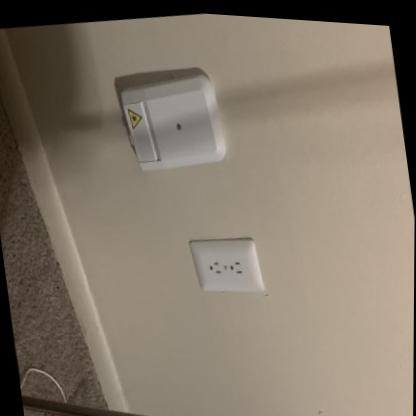OUTLET: (187, 227, 265, 301)
